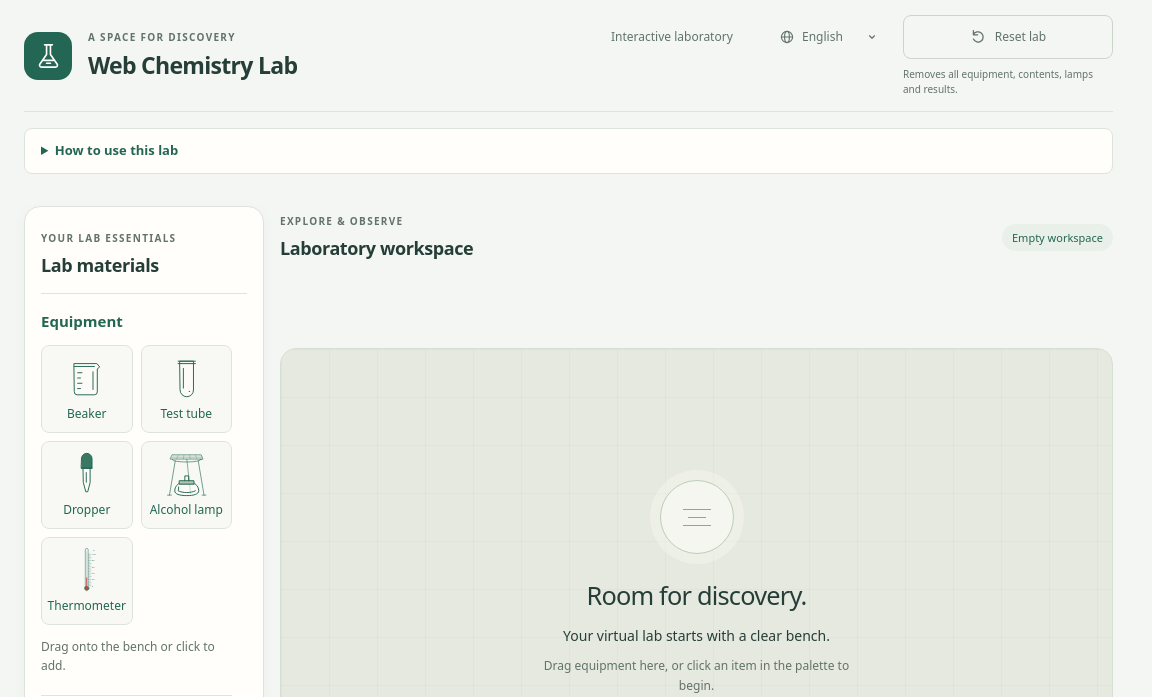
Scenario: M2 chemical and container interactions › restores the initially empty bench after Escape and rejects stale pointer release
Press the mouse on the button with aria-label "Add Thermometer" at (87, 580), box [41, 536, 132, 624]
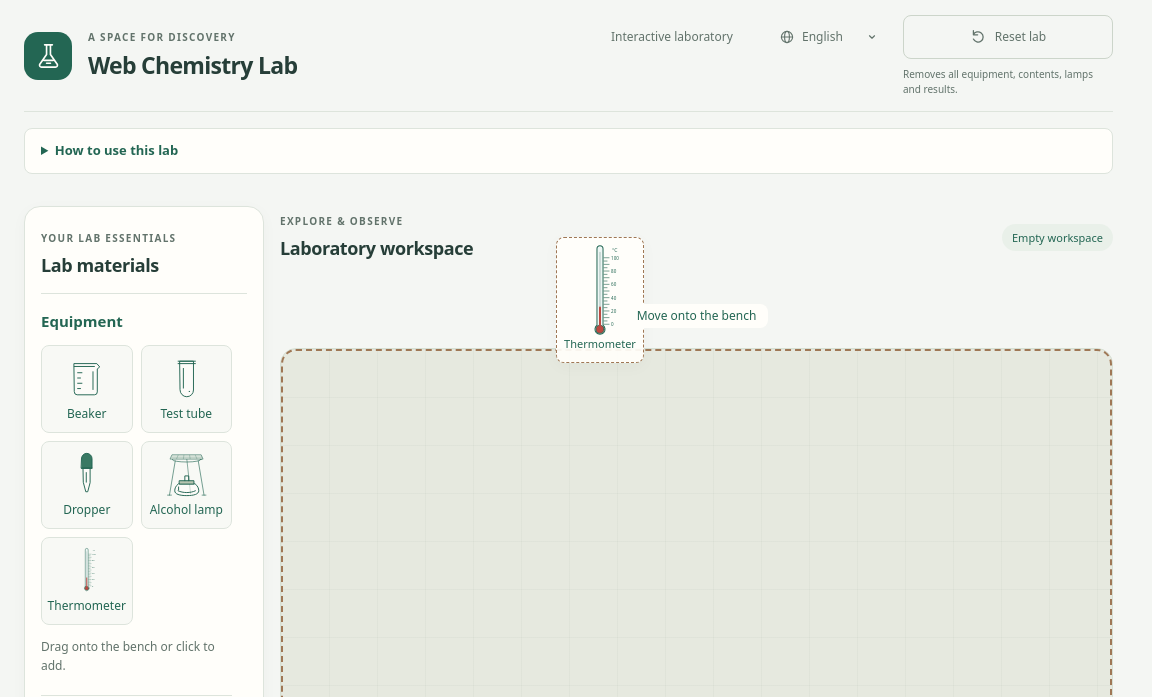
Press Escape in the button with aria-label "Add Thermometer", box [41, 536, 132, 624]
(page scrolled)
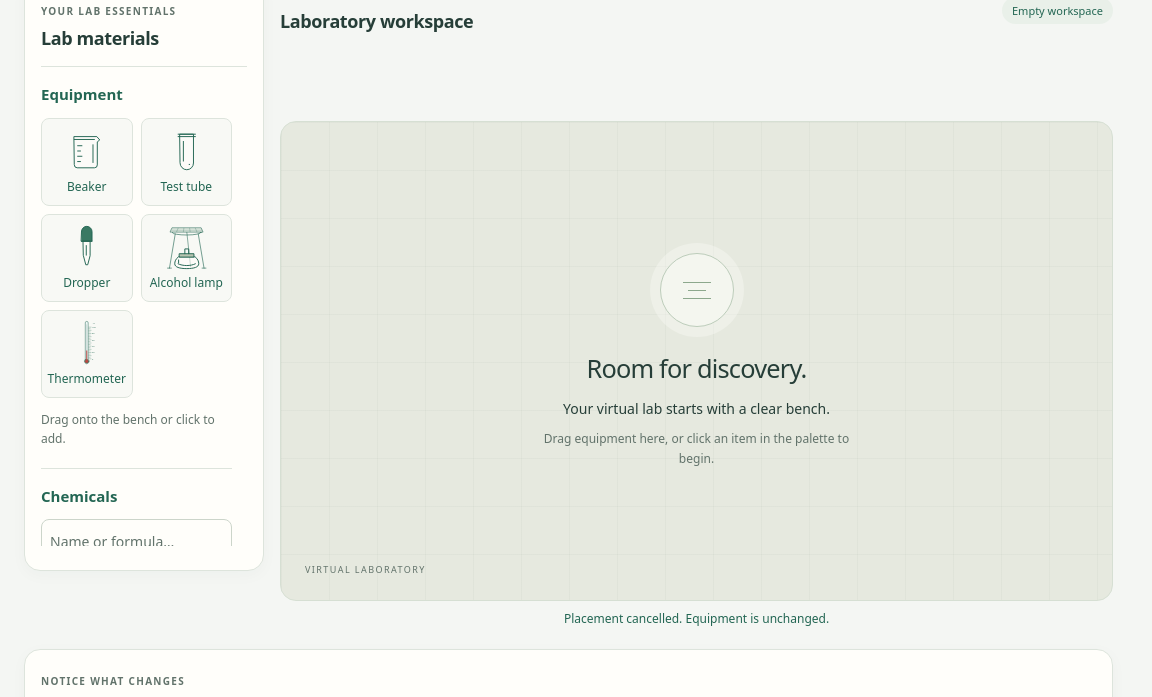
Expected: the element with class "workspace-empty" is shown, [544, 253, 849, 467]
Expected: the element with class "equipment-drag-preview" is gone
Expected: the text with class "bench-drop-feedback" is gone
